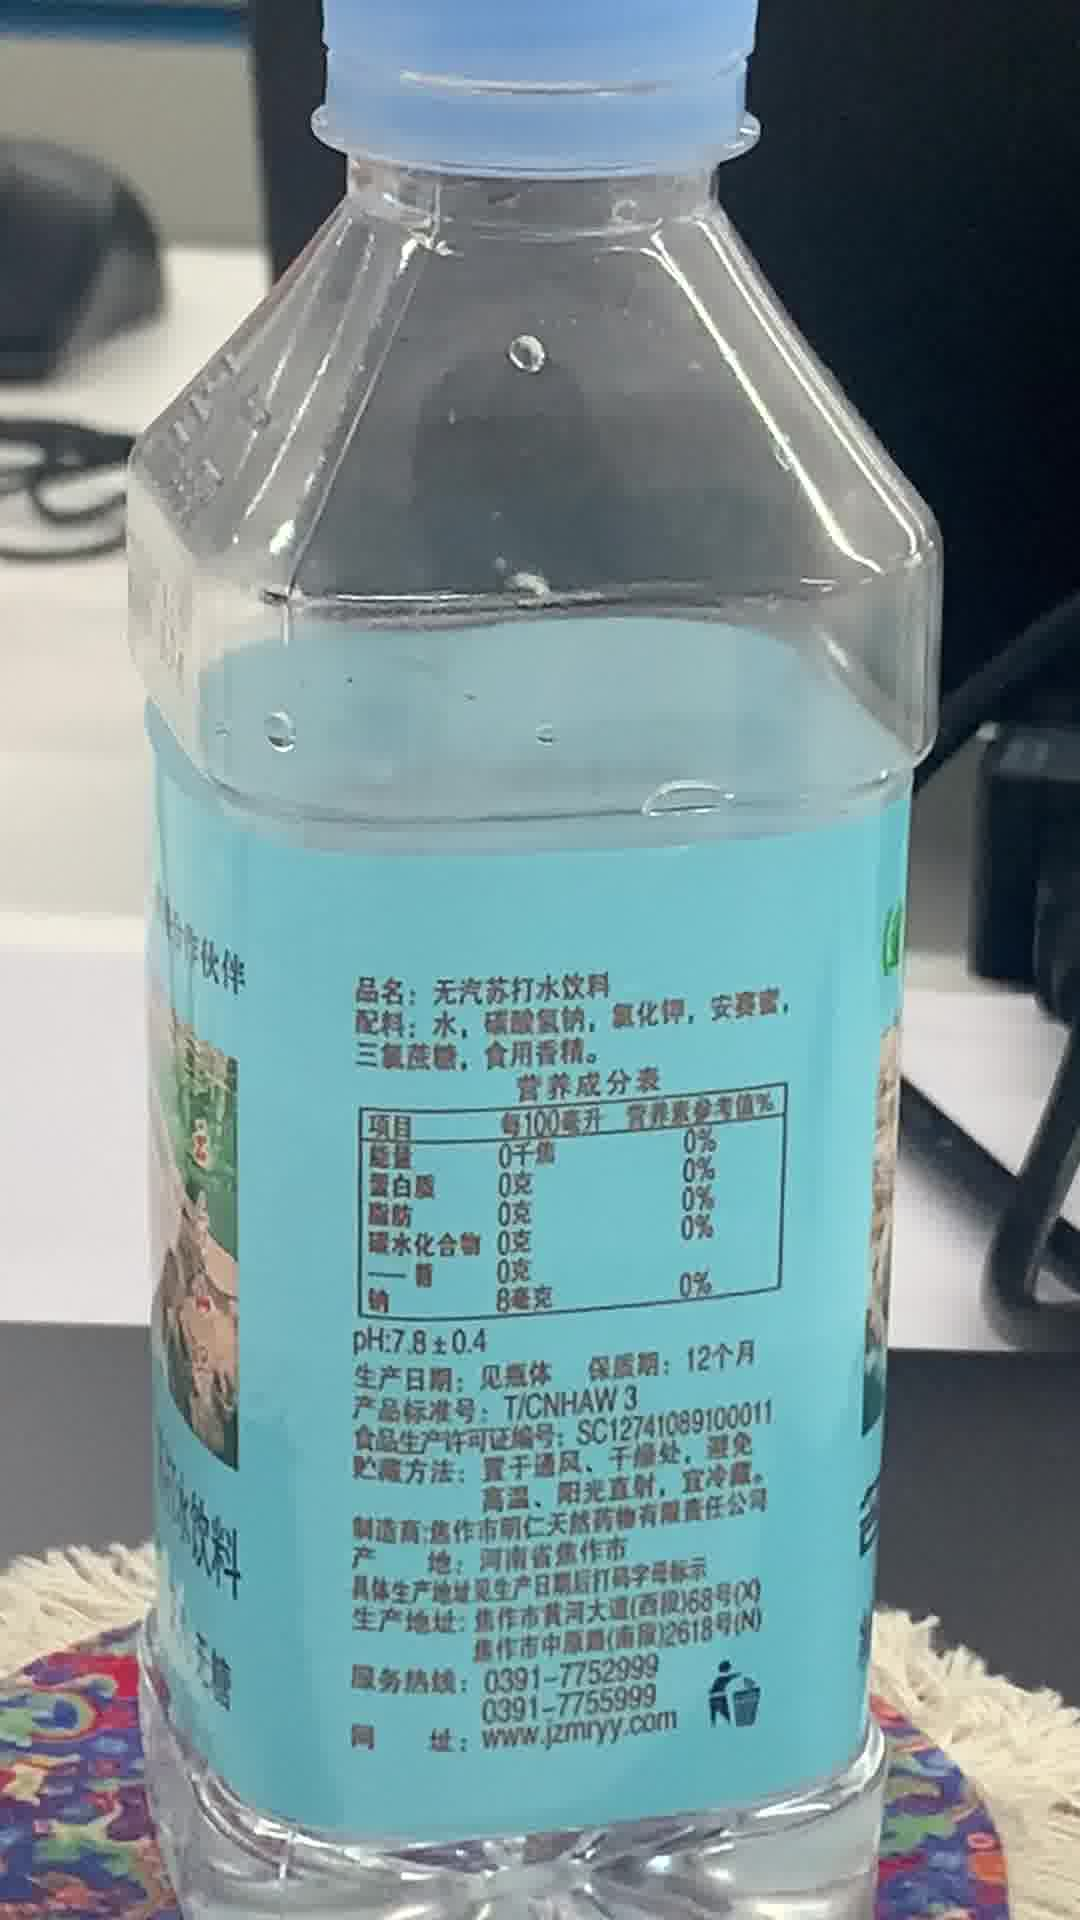水瓶: (95, 4, 910, 1895)
